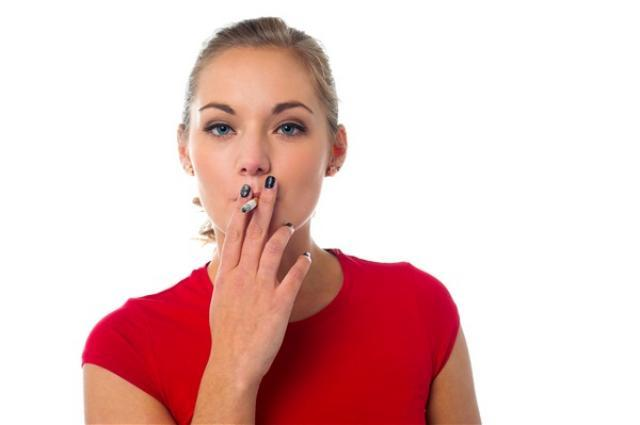SafeDriving: (264, 106, 314, 144), (196, 107, 244, 145)
Smoking: (237, 195, 260, 217)
